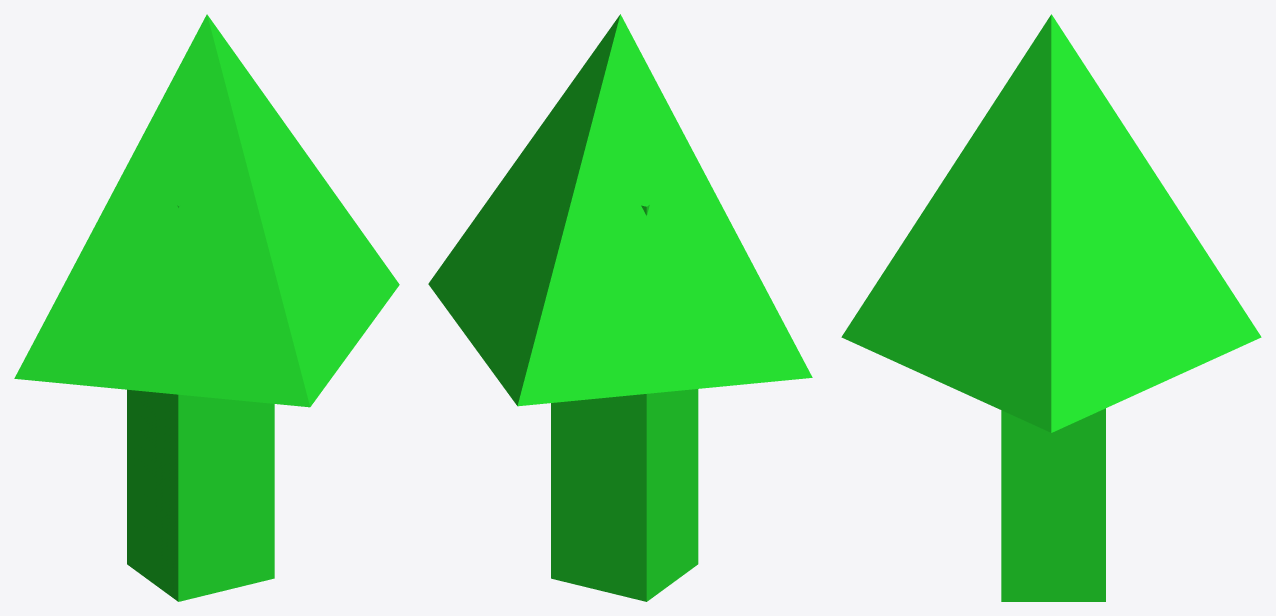
The model's file is pine-green-low.glb.
3 views of the same model, side by side, from view 1: azimuth 30°, elevation 25°; view 2: azimuth 150°, elevation 25°; view 3: azimuth 270°, elevation 25° (orthographic). The views are drawn at different scales.
Visible parts, largest first — view 1: 立方体; view 2: 立方体; view 3: 立方体.
Boxes of the visible parts, box(x1,y1,x2,y2) form: 立方体: box(14, 14, 399, 601); 立方体: box(428, 14, 812, 601); 立方体: box(841, 14, 1261, 601).
Size of the model in its own units: 1.96 by 2.7 by 1.82.
